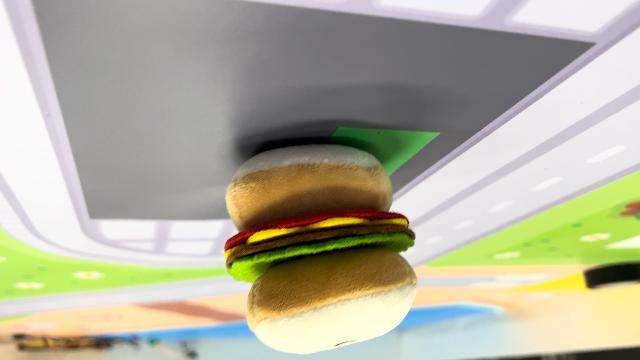sandwich: (220, 140, 422, 354)
